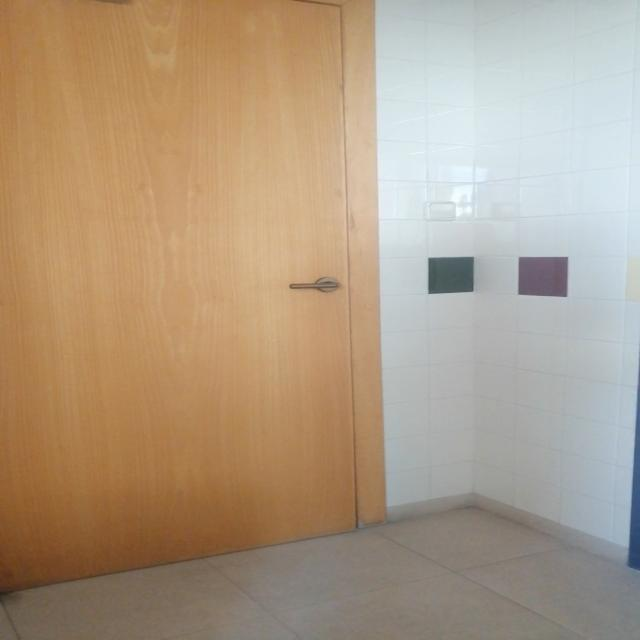door_handle: (285, 281, 343, 291)
